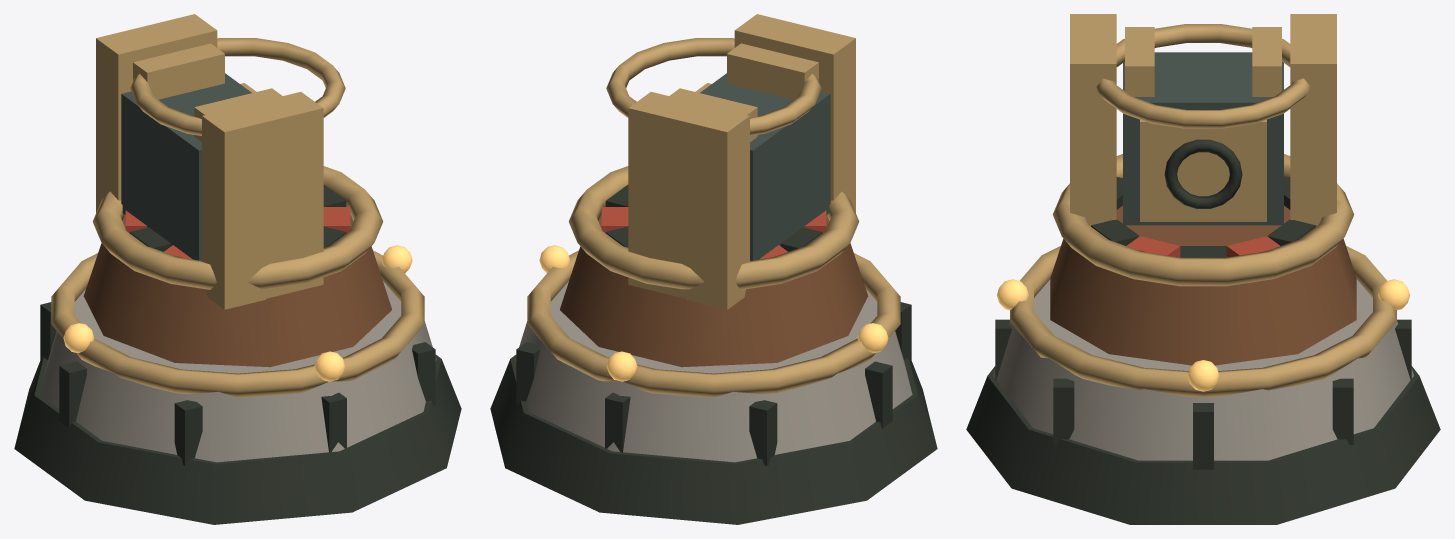
Rendered from tower_gamble_gambleBank_ultimate.glb.
The picture shows the model from 3 angles, left to right: view 1: azimuth 30°, elevation 25°; view 2: azimuth 150°, elevation 25°; view 3: azimuth 270°, elevation 25°; orthographic projection. The views are drawn at different scales.
Visible parts, largest first — view 1: foot_0, stone_1, bank_guard_34, table_15, rim_2, vault_29, roulette_rim_16, bank_guard_35, safe_halo_36, vault_crown_33, mortar_6, mortar_7 (+9 smaller); view 2: foot_0, stone_1, bank_guard_35, table_15, rim_2, vault_29, roulette_rim_16, bank_guard_34, safe_halo_36, vault_crown_32, mortar_8, mortar_7 (+9 smaller); view 3: foot_0, stone_1, table_15, rim_2, roulette_rim_16, vault_29, vault_door_30, bank_guard_34, bank_guard_35, safe_halo_36, safe_lock_31, vault_crown_32 (+14 smaller).
Part boxes in pixels (box(x1,y1,x2,y2)): foot_0: box(14, 355, 461, 524); stone_1: box(39, 281, 436, 462); bank_guard_34: box(202, 92, 323, 309); table_15: box(83, 214, 391, 367); rim_2: box(51, 250, 424, 397); vault_29: box(121, 73, 251, 260); roulette_rim_16: box(92, 166, 383, 289); bank_guard_35: box(96, 14, 217, 215); safe_halo_36: box(130, 38, 345, 135); vault_crown_33: box(133, 43, 224, 99); mortar_6: box(174, 400, 202, 465); mortar_7: box(59, 361, 86, 428); foot_0: box(490, 355, 937, 524); stone_1: box(515, 281, 912, 462); bank_guard_35: box(628, 92, 749, 309); table_15: box(560, 214, 868, 367); rim_2: box(527, 250, 900, 397); vault_29: box(700, 73, 830, 260); roulette_rim_16: box(568, 166, 859, 289); bank_guard_34: box(734, 14, 855, 215); safe_halo_36: box(606, 38, 821, 135); vault_crown_32: box(727, 43, 818, 99); mortar_8: box(749, 400, 777, 465); mortar_7: box(865, 361, 892, 428); foot_0: box(966, 366, 1440, 524); stone_1: box(993, 279, 1413, 460); table_15: box(1050, 206, 1356, 365); rim_2: box(1010, 246, 1396, 397); roulette_rim_16: box(1052, 154, 1354, 286); vault_29: box(1123, 52, 1283, 225); vault_door_30: box(1140, 119, 1266, 221); bank_guard_34: box(1070, 14, 1116, 246); bank_guard_35: box(1290, 14, 1336, 246); safe_halo_36: box(1096, 24, 1310, 128); safe_lock_31: box(1164, 139, 1242, 208); vault_crown_32: box(1125, 27, 1154, 96).
Size of the model in its own units: 0.5326 by 0.49 by 0.56.
